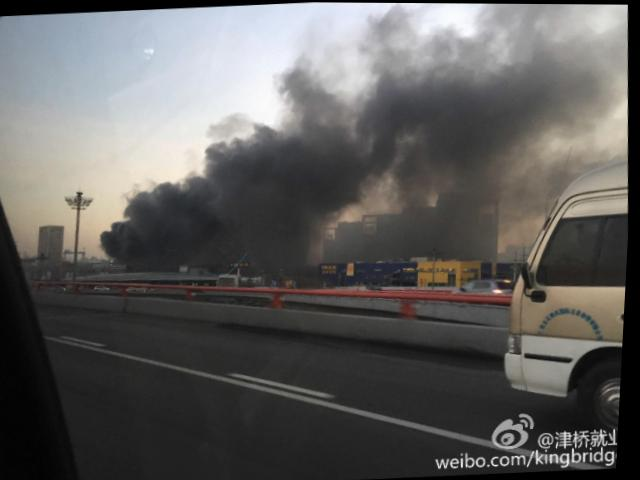smoke: (369, 84, 493, 191), (130, 189, 300, 258), (479, 47, 603, 122), (209, 143, 358, 205), (376, 16, 454, 84), (286, 73, 333, 130), (106, 229, 129, 257)
